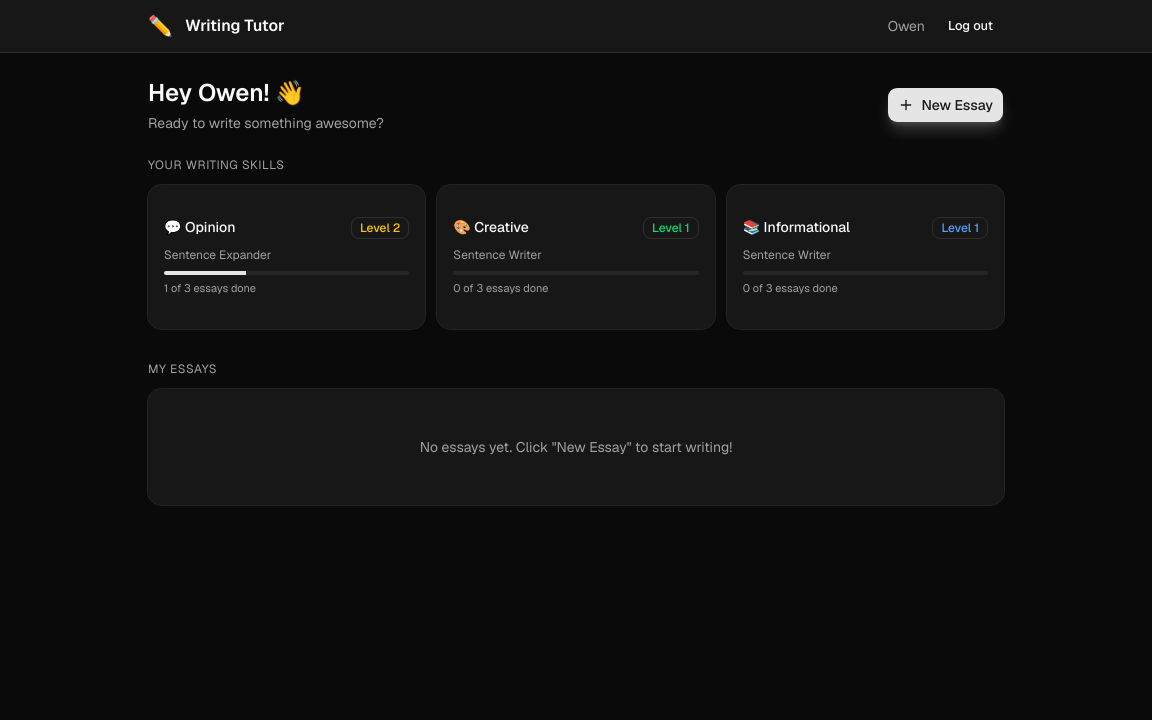
HomePage › opens the NewEssayDialog with the type preselected when a skill card body is clicked
Click the text "💬 Opinion".
click(200, 227)  # box top-left (164, 217), bottom-right (235, 237)
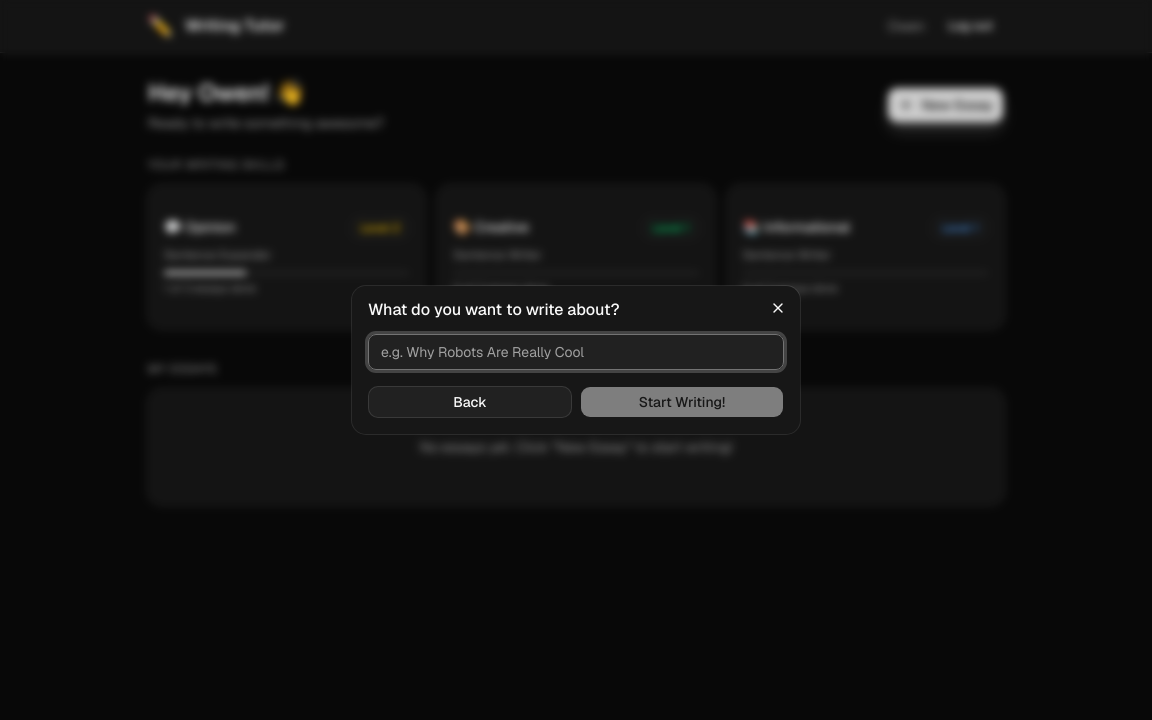
Expected: the heading "What do you want to write about?" is shown, top-left (368, 299), bottom-right (620, 320)
Expected: the field with placeholder "e.g. Why Robots Are Really Cool" is shown, top-left (368, 334), bottom-right (784, 370)
